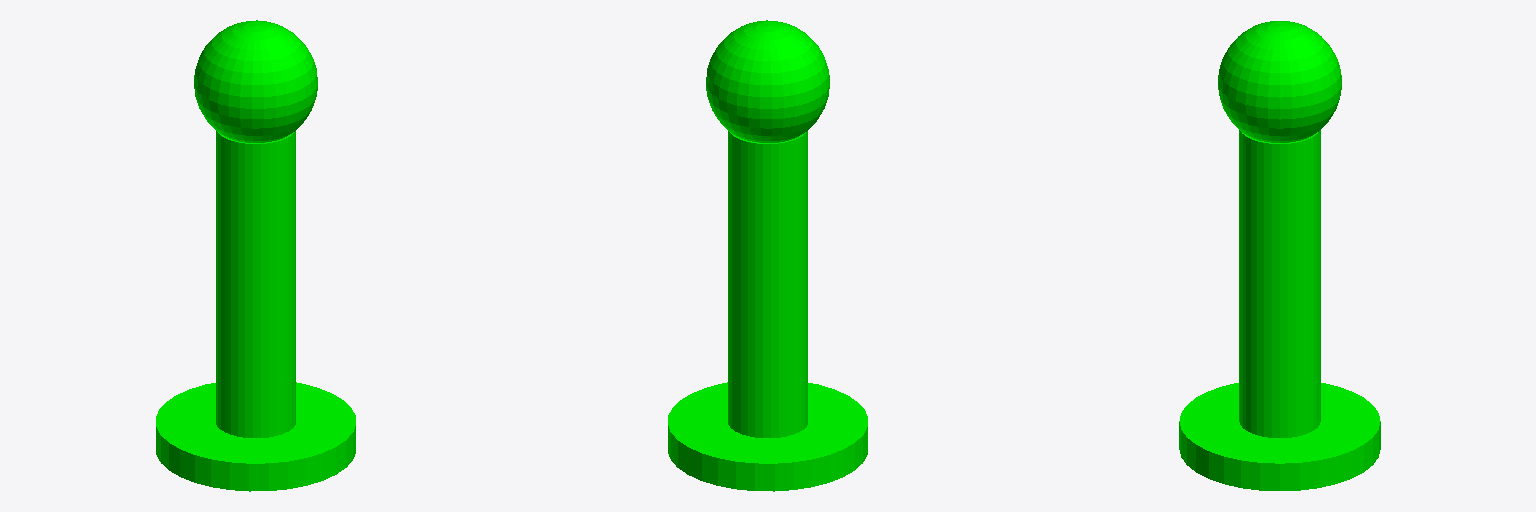
robot.urdf — ee_with_peg:
<?xml version="1.0" encoding="utf-8"?>
<!-- =================================================================================== -->
<!-- |    This document is a hand edited version of the output autogenerated by xacro  | -->
<!-- |    from panda_arm.urdf.xacro.  It features the following changes:               | -->
<!-- |      1) Lacrosse ball end effector on a stick, matching the physical end        | -->
<!-- |         effector used for the C3 experiments.                                   | -->
<!-- |      2) No collision geometry except for the ball end effector.                 | -->
<!-- =================================================================================== -->
<robot xmlns:drake="http://drake.mit.edu" name="ee_with_peg">
    <link name="floating_end_effector_base">
        <inertial>
            <origin rpy="0 0 0" xyz="0 0 -0.0048"/>
            <mass value="0.0779312"/>
            <inertia
                ixx="1.9930319916000003e-05"
                iyy="1.9930319916000003e-05"
                izz="3.866361660000001e-05"
                ixy="0" ixz="0" iyz="0"/>
        </inertial>
        <visual>
            <origin rpy="0 0 0" xyz="0 0 -0.0048"/>
            <geometry>
                <cylinder radius="0.0315" length="0.0096"/>
            </geometry>
            <material>
                <color rgba="0 1 0 0"/>
            </material>
        </visual>
    </link>
    <link name="floating_end_effector_link">
        <inertial>
            <origin rpy="0 0 0" xyz="0 0 -0.0508"/>
            <mass value="0.1340688"/>
            <inertia
                ixx="0.00012073375853199997"
                iyy="0.00012073375853199997"
                izz="1.0811978376e-05"
                ixy="0" ixz="0" iyz="0"/>
        </inertial>
        <visual>
            <origin rpy="0 0 0" xyz="0 0 -0.0508"/>
            <geometry>
                <cylinder radius="0.0127" length="0.1016"/>
            </geometry>
            <material>
                <color rgba="0 1 0 0"/>
            </material>
        </visual>
    </link>
    <joint name="fix_link_base" type="fixed">
         <origin rpy="0 0 0" xyz="0 0 0.0096"/>
         <parent link="floating_end_effector_link"/>
         <child link="floating_end_effector_base"/>
    </joint>
    <link name="floating_end_effector_tip">
        <inertial>
            <origin rpy="0 0 0" xyz="0 0 0.0"/>
            <mass value="0.057"/>
            <inertia
                ixx="8.669700000000001e-06"
                iyy="8.669700000000001e-06"
                izz="8.669700000000001e-06"
                ixy="0" ixz="0" iyz="0"/>
        </inertial>
        <visual>
            <origin rpy="0 0 0" xyz="0 0 0"/>
            <geometry>
                <sphere radius="0.0195"/>
            </geometry>
            <material>
                <color rgba="0 1 0 0"/>
            </material>
        </visual>
    </link>
    <joint name="fix_tip_link" type="fixed">
        <origin rpy="3.14159265 0 0" xyz="0 0 -0.1169"/>
        <parent link="floating_end_effector_tip"/>
        <child link="floating_end_effector_link"/>
    </joint>

</robot>

--- Render facts (derived) ---
3 views of the same robot in one strip: view 1: azimuth 30°, elevation 25°; view 2: azimuth 150°, elevation 25°; view 3: azimuth 270°, elevation 25° (orthographic).
Robot: ee_with_peg — 3 links, 2 joints (2 fixed); root link floating_end_effector_tip; default pose: every joint at zero.
Links seen in each view (by area): view 1: floating_end_effector_link, floating_end_effector_base, floating_end_effector_tip; view 2: floating_end_effector_link, floating_end_effector_base, floating_end_effector_tip; view 3: floating_end_effector_link, floating_end_effector_base, floating_end_effector_tip.
Boxes of the visible links, bbox=[...] form: floating_end_effector_link: bbox=[216, 131, 295, 437]; floating_end_effector_base: bbox=[156, 382, 355, 491]; floating_end_effector_tip: bbox=[194, 20, 317, 142]; floating_end_effector_link: bbox=[728, 131, 807, 437]; floating_end_effector_base: bbox=[668, 382, 867, 491]; floating_end_effector_tip: bbox=[706, 20, 829, 142]; floating_end_effector_link: bbox=[1239, 130, 1320, 437]; floating_end_effector_base: bbox=[1179, 383, 1380, 490]; floating_end_effector_tip: bbox=[1218, 21, 1341, 142].
Size in the robot's own frame: 0.063 by 0.063 by 0.146 metres.
Geometry: primitives only (box / cylinder / sphere), no mesh files.
